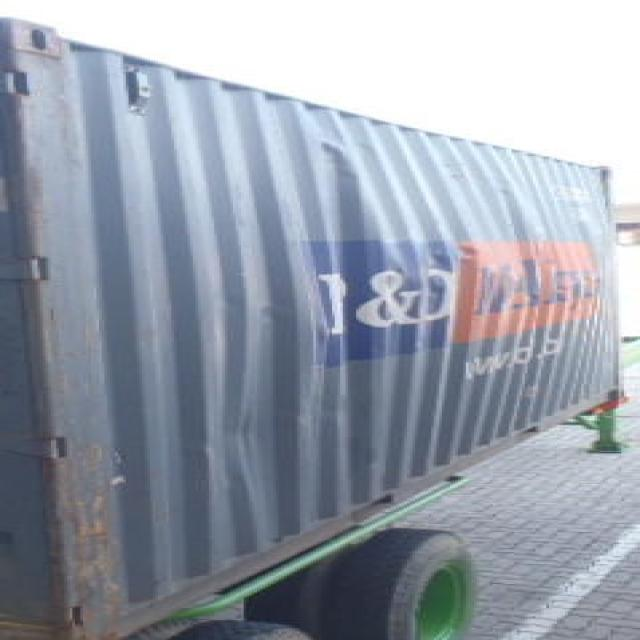dent: (165, 99, 504, 539)
